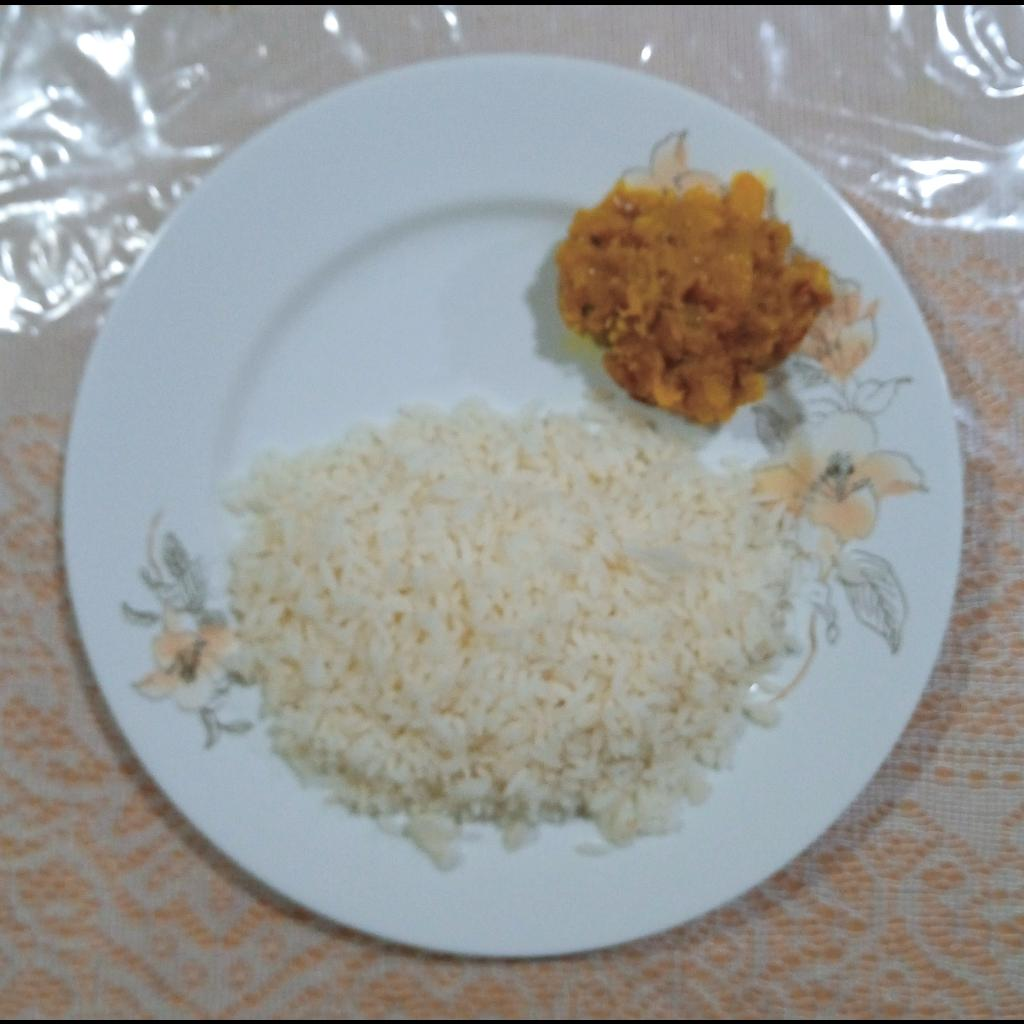kumra-vaji: (557, 171, 836, 423)
rice: (223, 389, 797, 859)
